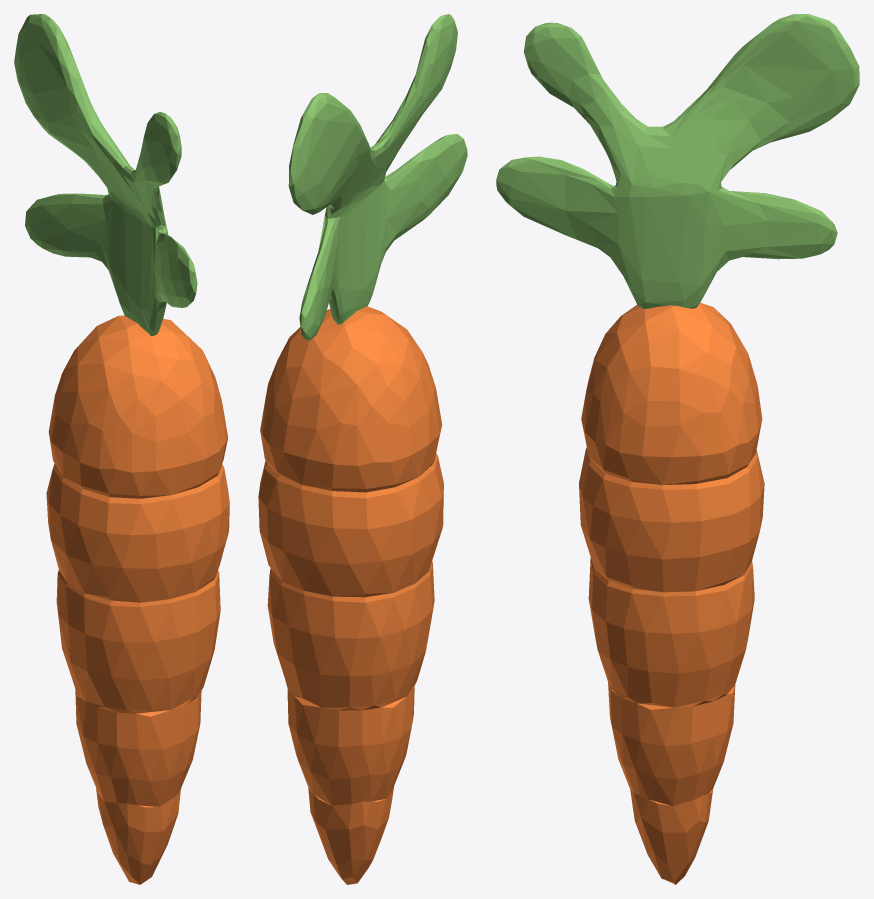
The model's file is WortelTahap3.fbx.
3 renders of one model, left to right at view 1: azimuth 30°, elevation 25°; view 2: azimuth 150°, elevation 25°; view 3: azimuth 270°, elevation 25°, orthographic. The views are drawn at different scales.
Visible parts, largest first — view 1: WortelTahap3.002; view 2: WortelTahap3.002; view 3: WortelTahap3.002.
Boxes of the visible parts, bbox=[...] form: WortelTahap3.002: bbox=[14, 14, 229, 884]; WortelTahap3.002: bbox=[258, 14, 467, 884]; WortelTahap3.002: bbox=[496, 14, 859, 884].
Bounding box in the file's own units: 9.65 × 49.06 × 18.89.
